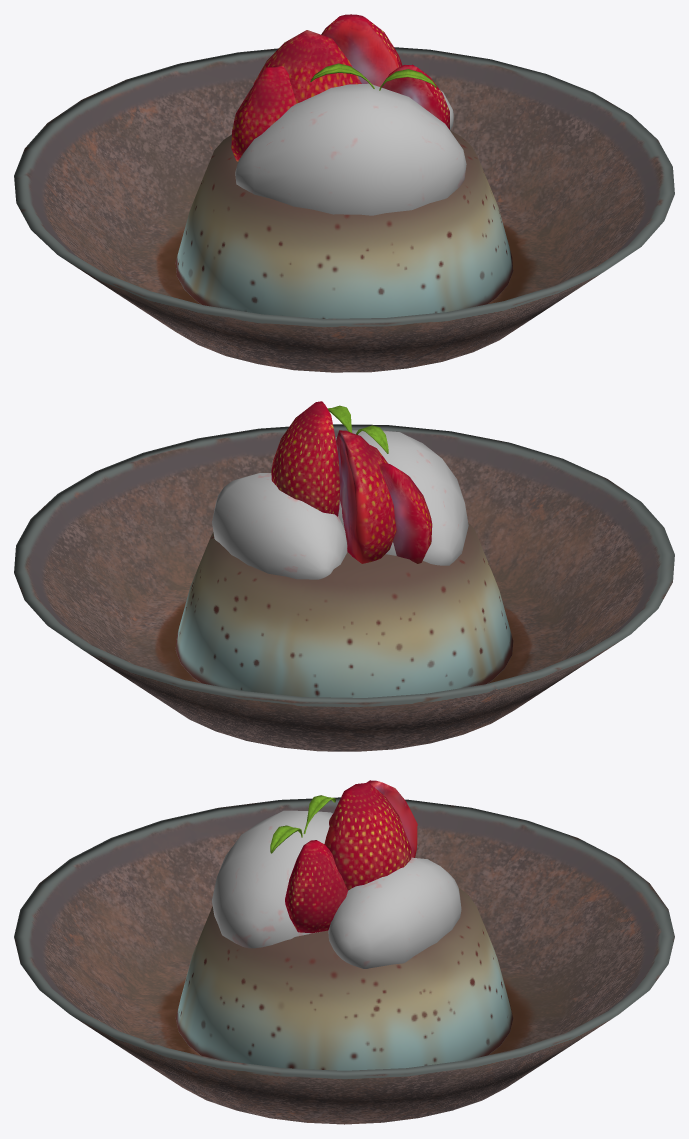
3 views of the same model, one above another, from view 1: azimuth 30°, elevation 25°; view 2: azimuth 150°, elevation 25°; view 3: azimuth 270°, elevation 25° (orthographic).
Parts seen in each view (by area): view 1: pudding_total; view 2: pudding_total; view 3: pudding_total.
Boxes of the visible parts, left/top/right/bottom form: pudding_total: left=14, top=14, right=674, bottom=372; pudding_total: left=14, top=401, right=674, bottom=751; pudding_total: left=14, top=780, right=674, bottom=1124.
Bounding box in the file's own units: 2.34 × 1.04 × 2.34.
Materials: 1 (1 with a texture image).
